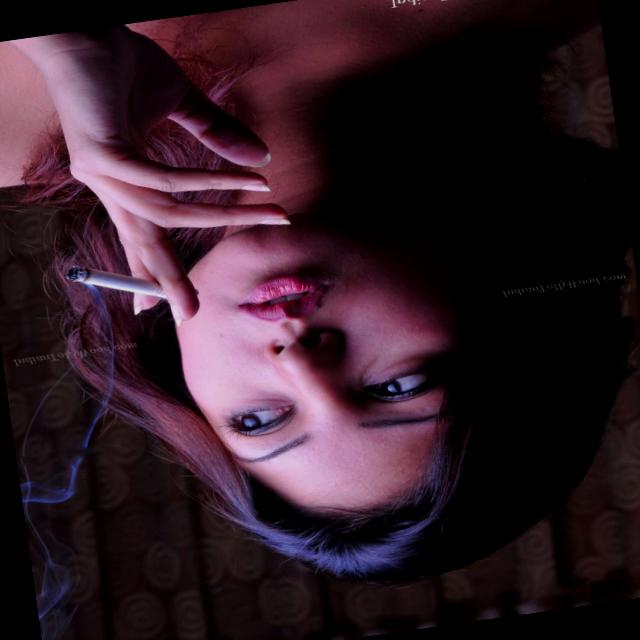smoke: (36, 222, 230, 328)
